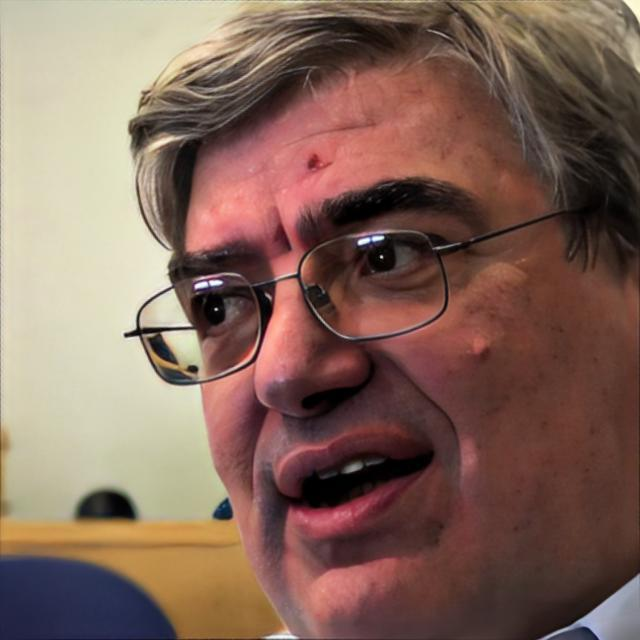disgust: (165, 49, 640, 640)
